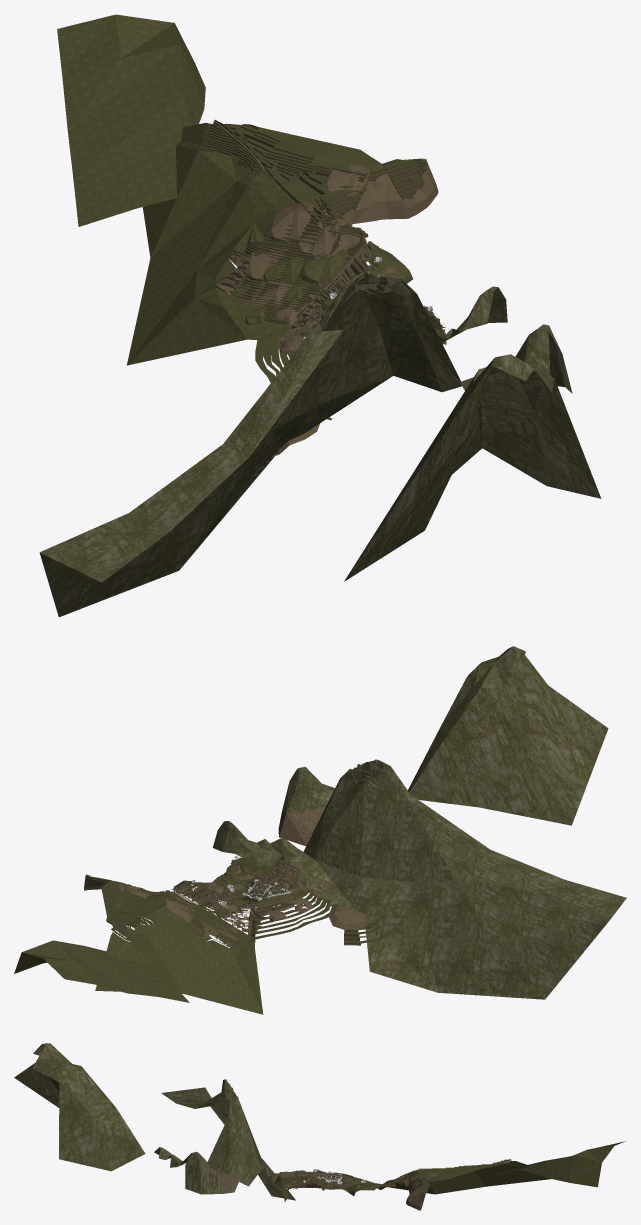
Rendered from MachuPichu_World.obj.
3 renders of one model, top to bottom at view 1: azimuth 30°, elevation 25°; view 2: azimuth 150°, elevation 25°; view 3: azimuth 270°, elevation 25°, orthographic. The views are drawn at different scales.
Visible parts, largest first — view 1: Machu_Out; view 2: Machu_Out; view 3: Machu_Out.
Part boxes in pixels (x1,y1,x2,y2): Machu_Out: [39, 14, 601, 617]; Machu_Out: [14, 646, 626, 1014]; Machu_Out: [14, 1043, 625, 1210].
Size of the model in its own units: 1283 by 710 by 2217.
